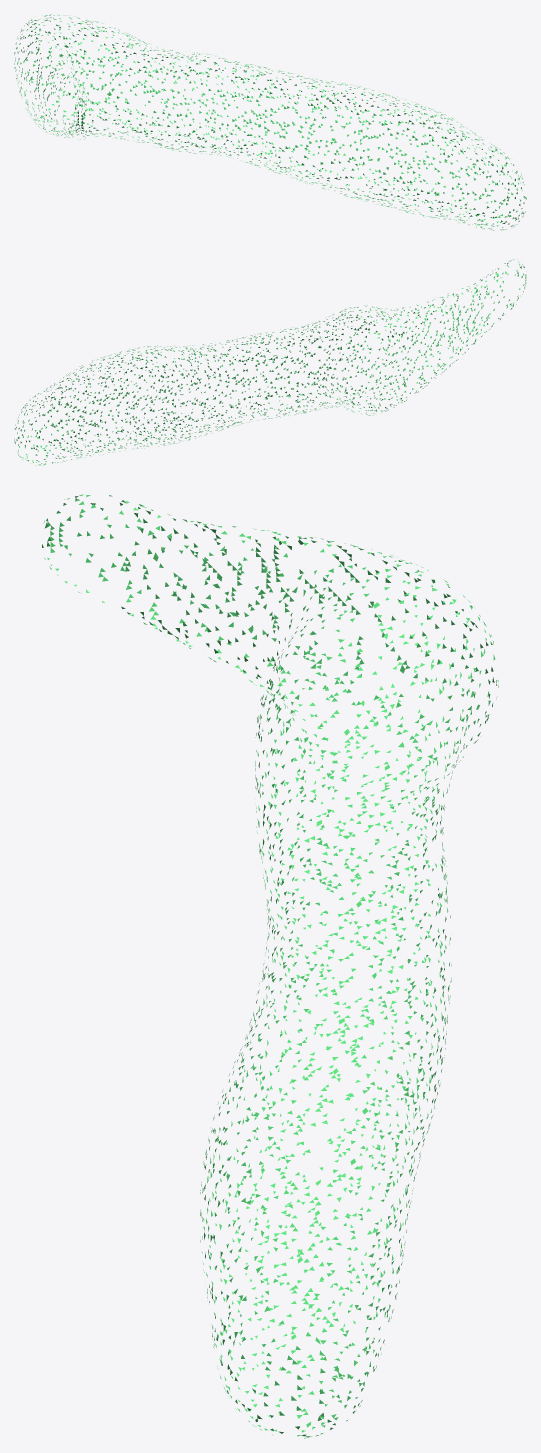
The model's file is morph_020.glb.
3 views of the same model, one above another, from view 1: azimuth 30°, elevation 25°; view 2: azimuth 150°, elevation 25°; view 3: azimuth 270°, elevation 25° (orthographic). The views are drawn at different scales.
Size of the model in its own units: 130 by 74.35 by 58.09.
